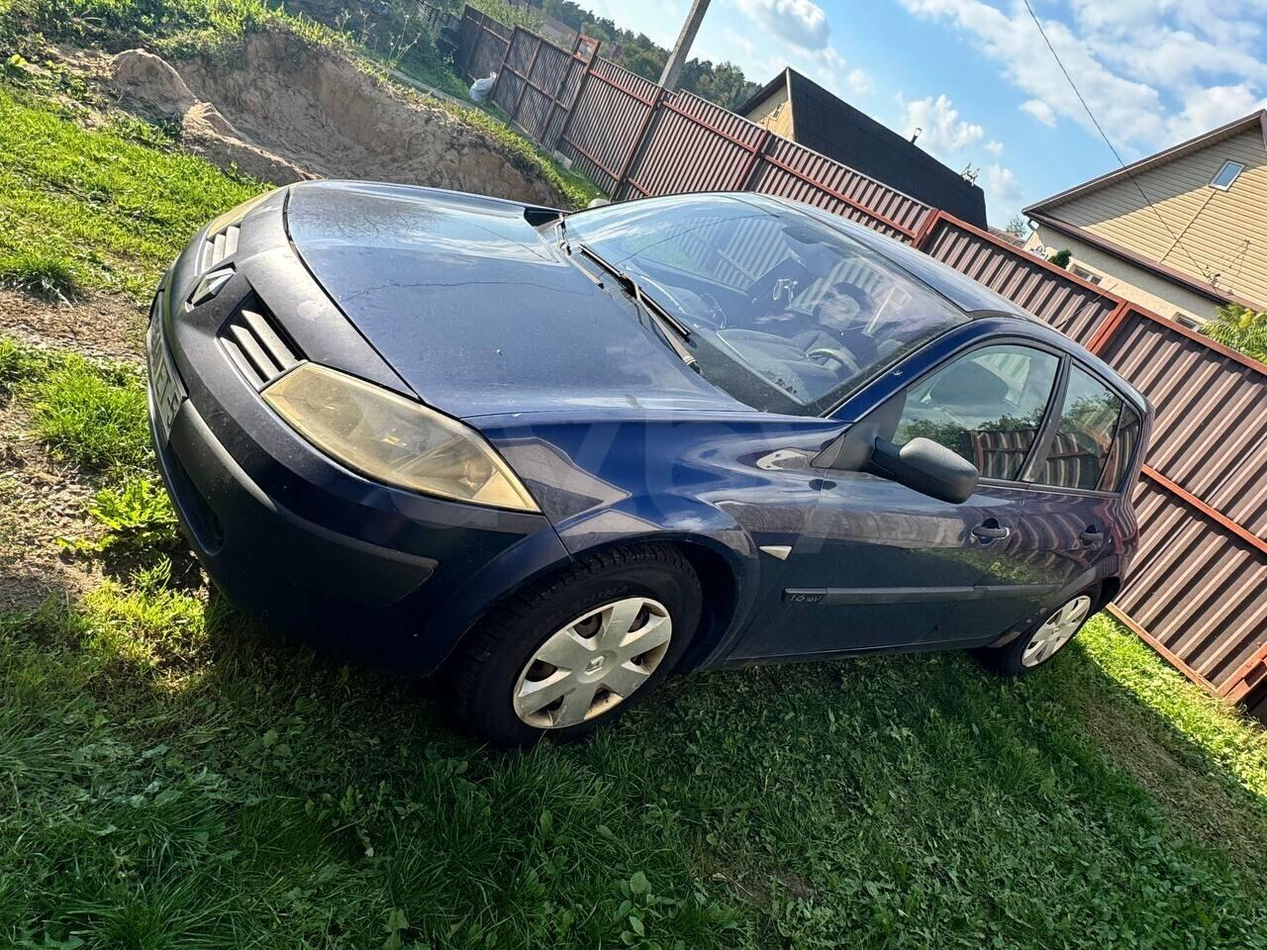Megane_2002-2006: (140, 165, 1152, 747)
